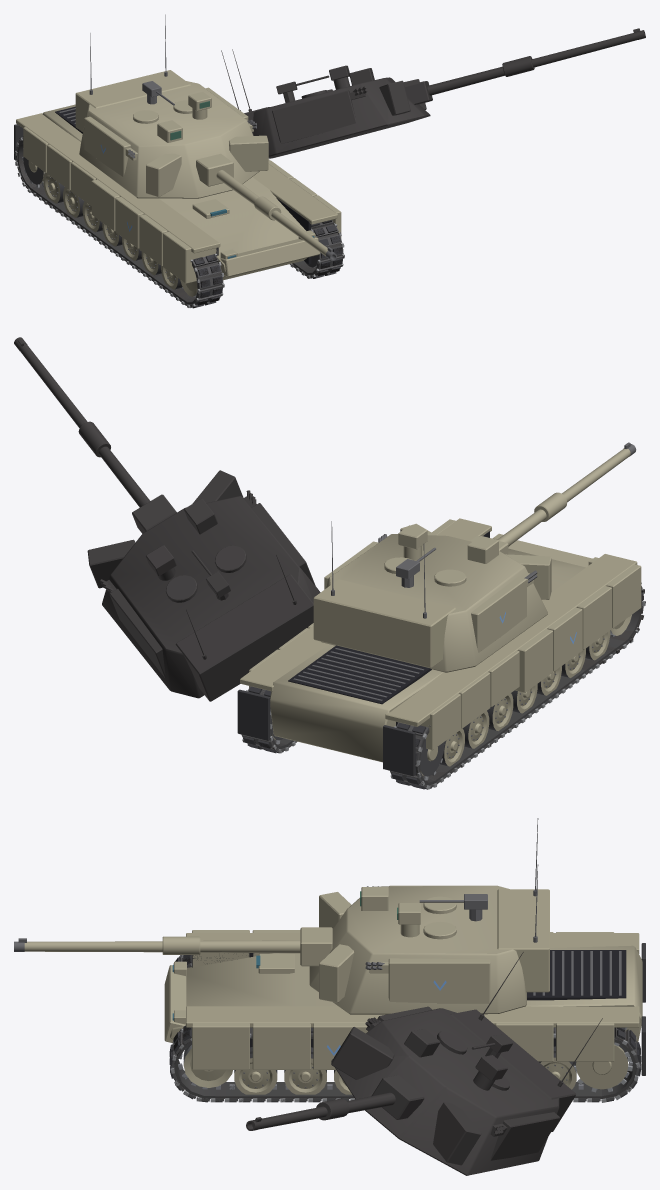
File: tank__altay.glb
3 renders of one model, top to bottom at view 1: azimuth 30°, elevation 25°; view 2: azimuth 150°, elevation 25°; view 3: azimuth 270°, elevation 25°, orthographic. The views are drawn at different scales.
Parts seen in each view (by area): view 1: Hull_Mesh, Turret_Mesh, Wreck, Track_L_Mesh, Gun_Mesh, Track_R_Mesh, CITV_Mesh, Gunner_Sight_Mesh, Wheel_L1_Mesh, Wheel_L0_Mesh; view 2: Wreck, Hull_Mesh, Turret_Mesh, Track_L_Mesh, Gun_Mesh, Track_R_Mesh, CITV_Mesh, Gunner_Sight_Mesh, Wheel_L2_Mesh, Wheel_L1_Mesh; view 3: Hull_Mesh, Wreck, Turret_Mesh, Track_R_Mesh, Gun_Mesh, Sprocket_R_Mesh, Wheel_R6_Mesh, Wheel_R5_Mesh, Idler_R_Mesh, CITV_Mesh, Gunner_Sight_Mesh, CROWS_Mesh (+1 smaller).
Part boxes in pixels (<box>): Hull_Mesh: <box>14,104,341,283</box>; Turret_Mesh: <box>75,70,268,198</box>; Wreck: <box>15,28,645,308</box>; Track_L_Mesh: <box>14,137,224,307</box>; Gun_Mesh: <box>196,153,336,260</box>; Track_R_Mesh: <box>290,220,344,278</box>; CITV_Mesh: <box>188,92,211,119</box>; Gunner_Sight_Mesh: <box>157,120,182,142</box>; Wheel_L1_Mesh: <box>63,187,84,217</box>; Wheel_L0_Mesh: <box>43,173,64,203</box>; Wreck: <box>14,337,645,785</box>; Hull_Mesh: <box>237,518,641,776</box>; Turret_Mesh: <box>313,523,551,672</box>; Track_L_Mesh: <box>390,582,645,789</box>; Gun_Mesh: <box>470,442,636,554</box>; Track_R_Mesh: <box>241,686,297,753</box>; CITV_Mesh: <box>398,525,427,560</box>; Gunner_Sight_Mesh: <box>467,536,498,563</box>; Wheel_L2_Mesh: <box>487,693,513,730</box>; Wheel_L1_Mesh: <box>463,711,489,748</box>; Hull_Mesh: <box>164,930,645,1075</box>; Wreck: <box>170,952,638,1175</box>; Turret_Mesh: <box>309,885,549,1014</box>; Track_R_Mesh: <box>169,1025,641,1102</box>; Gun_Mesh: <box>14,927,332,966</box>; Sprocket_R_Mesh: <box>574,1042,632,1092</box>; Wheel_R6_Mesh: <box>234,1047,277,1094</box>; Wheel_R5_Mesh: <box>284,1047,326,1094</box>; Idler_R_Mesh: <box>183,1044,232,1087</box>; CITV_Mesh: <box>397,903,420,937</box>; Gunner_Sight_Mesh: <box>360,887,388,910</box>; CROWS_Mesh: <box>419,894,487,921</box>.
Size of what is drawn, in the model's own units: 11.93 by 4.02 by 10.59.
